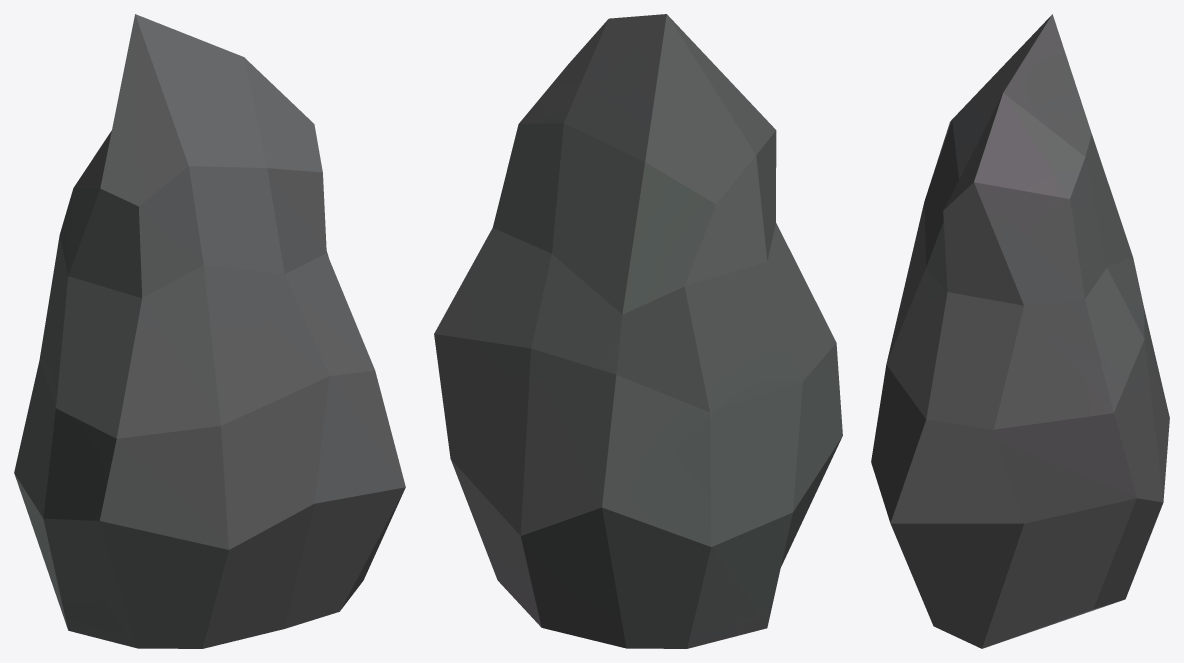
The model's file is BigStone.fbx.
The picture shows the model from 3 angles, left to right: view 1: azimuth 30°, elevation 25°; view 2: azimuth 150°, elevation 25°; view 3: azimuth 270°, elevation 25°; orthographic projection. The views are drawn at different scales.
Parts seen in each view (by area): view 1: Cube.001; view 2: Cube.001; view 3: Cube.001.
Part boxes in pixels (left/top/right/bottom): Cube.001: left=14, top=14, right=405, bottom=648; Cube.001: left=434, top=14, right=842, bottom=648; Cube.001: left=871, top=14, right=1169, bottom=648.
Size of the model in its own units: 1021 by 1839 by 909.
